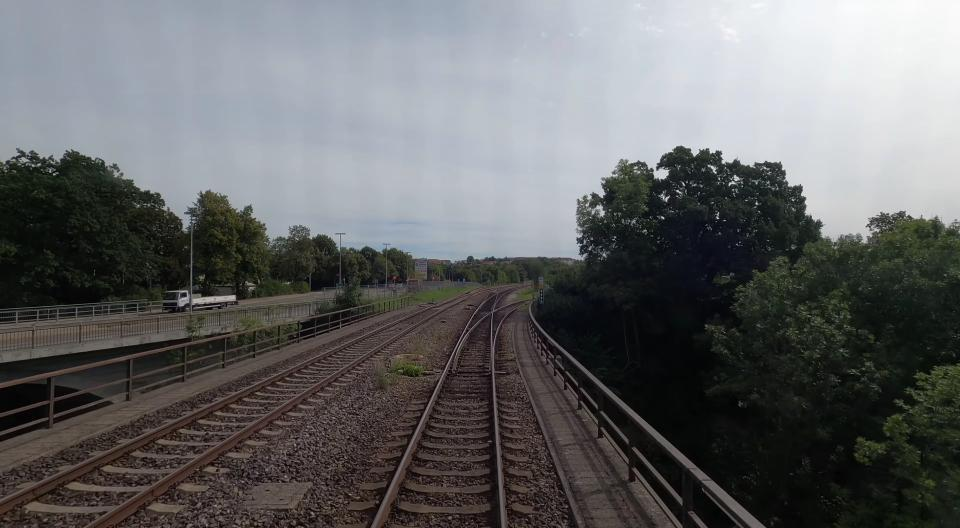Plant: (374, 362, 396, 390), (392, 363, 424, 377), (433, 329, 442, 343), (506, 355, 515, 360)
